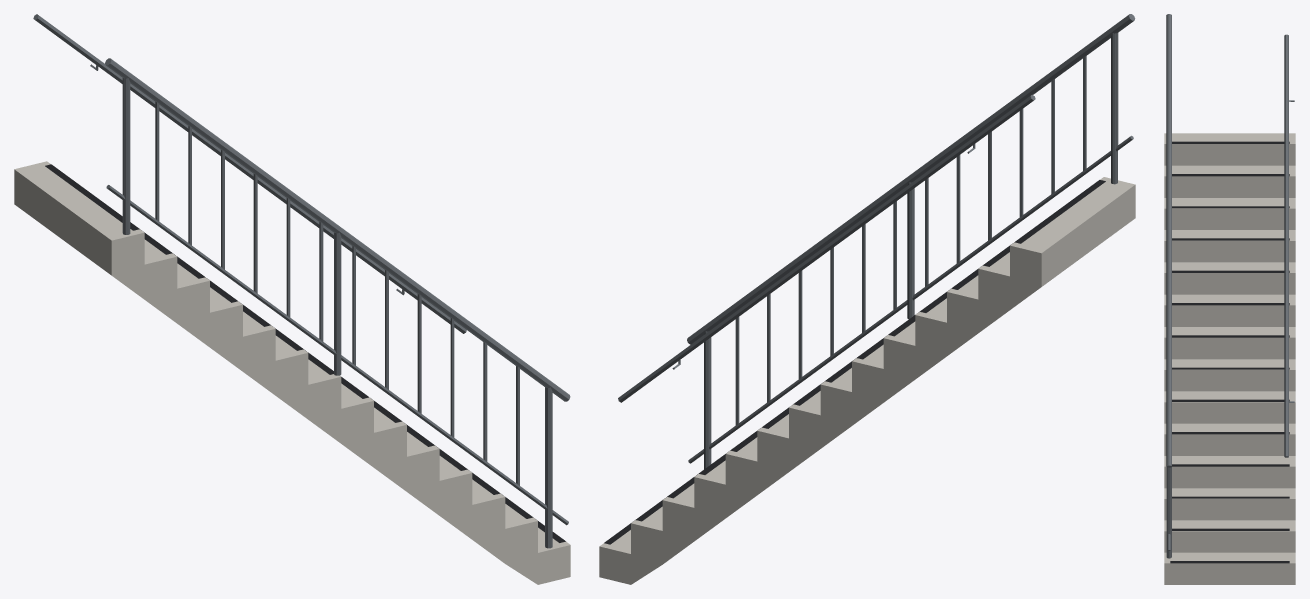
File: SC_Bld_Villa_Stairs_Exterior_Left.gltf
3 renders of one model, left to right at view 1: azimuth 30°, elevation 25°; view 2: azimuth 150°, elevation 25°; view 3: azimuth 270°, elevation 25°, orthographic. The views are drawn at different scales.
Parts seen in each view (by area): view 1: SC_Bld_Villa_Stairs_Exterior_Left; view 2: SC_Bld_Villa_Stairs_Exterior_Left; view 3: SC_Bld_Villa_Stairs_Exterior_Left.
Boxes of the visible parts, x1,y1,x2,y2 form: SC_Bld_Villa_Stairs_Exterior_Left: (14,14,570,584); SC_Bld_Villa_Stairs_Exterior_Left: (599,14,1135,584); SC_Bld_Villa_Stairs_Exterior_Left: (1164,14,1295,584).
Size of the model in its own units: 3.03 by 3.92 by 1.1.
Materials: 1 (1 with a texture image).
